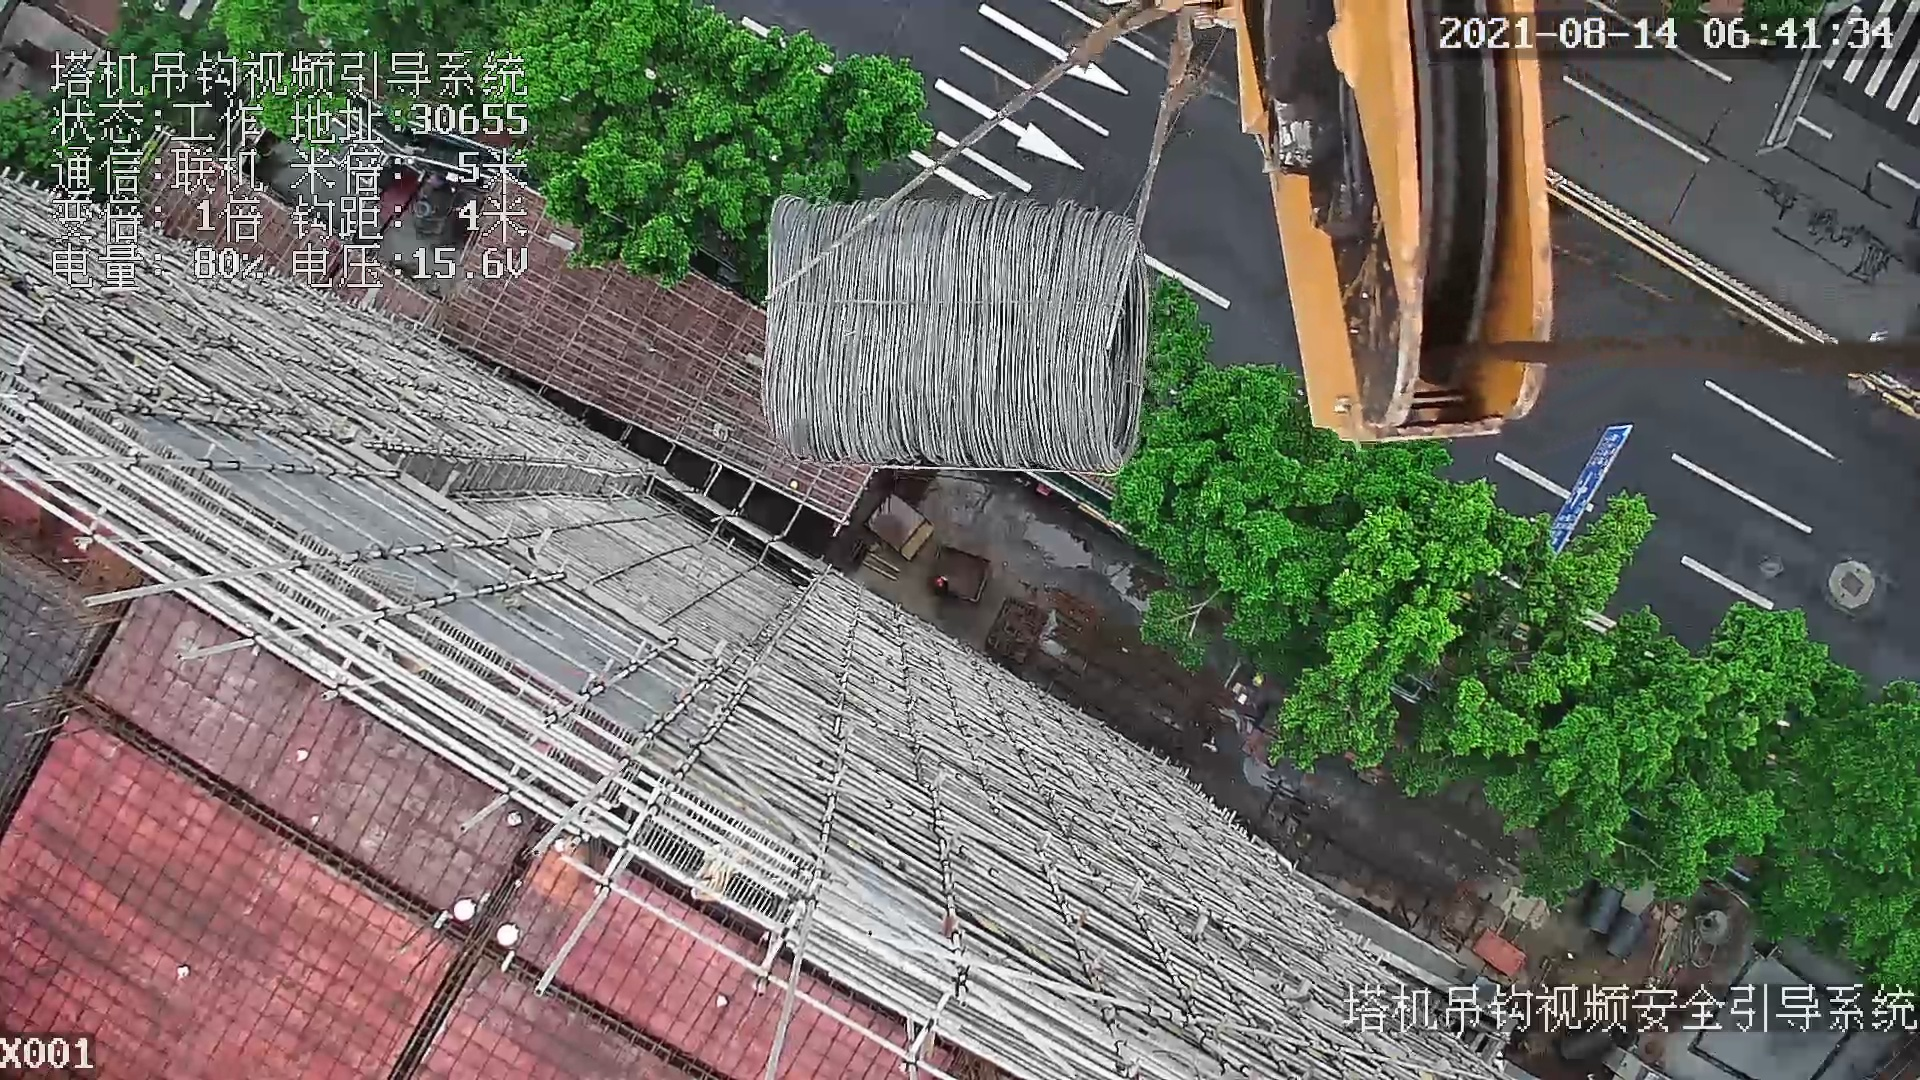hook: (1199, 1, 1549, 440)
